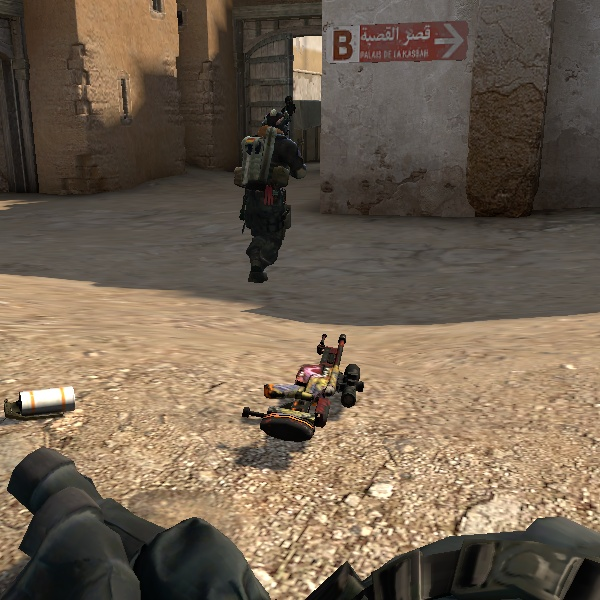ct_body: (212, 101, 322, 287)
ct_head: (258, 106, 300, 144)
